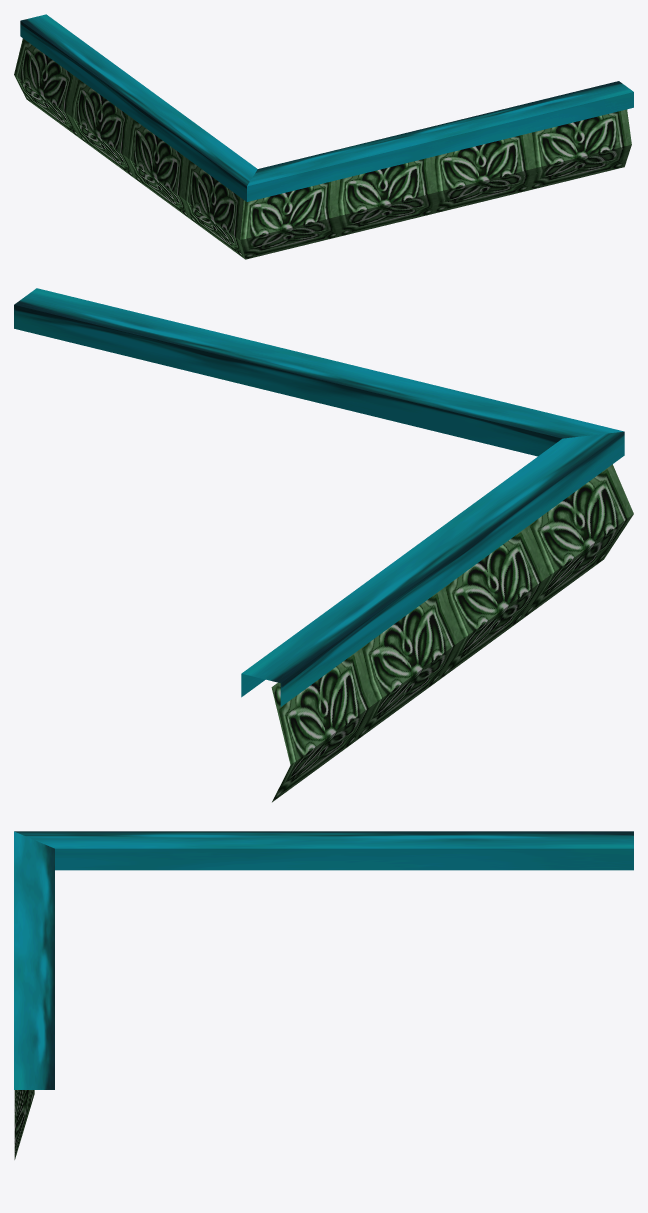
The model's file is Geländer_Ecke_1980.glb.
3 views of the same model, one above another, from view 1: azimuth 30°, elevation 25°; view 2: azimuth 150°, elevation 25°; view 3: azimuth 270°, elevation 25° (orthographic). The views are drawn at different scales.
Parts seen in each view (by area): view 1: pPlaneShape2, pPlaneShape3, pCubeShape1, pCubeShape2; view 2: pPlaneShape3, pCubeShape1, pCubeShape2; view 3: pCubeShape2, pCubeShape1, pPlaneShape2.
Part boxes in pixels (x1,y1,x2,y2): pPlaneShape2: [240, 109, 631, 259]; pPlaneShape3: [14, 38, 244, 258]; pCubeShape1: [247, 81, 633, 201]; pCubeShape2: [20, 14, 257, 201]; pPlaneShape3: [271, 464, 633, 802]; pCubeShape1: [14, 288, 623, 456]; pCubeShape2: [241, 431, 624, 706]; pCubeShape2: [14, 831, 633, 870]; pCubeShape1: [14, 831, 54, 1089]; pPlaneShape2: [14, 1090, 34, 1159].
Size of the model in its own units: 0.5189 by 0.1011 by 0.5171.
Materials: 4 (4 with a texture image).
